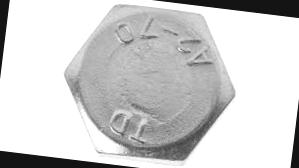hexagonal: (53, 0, 245, 168)
